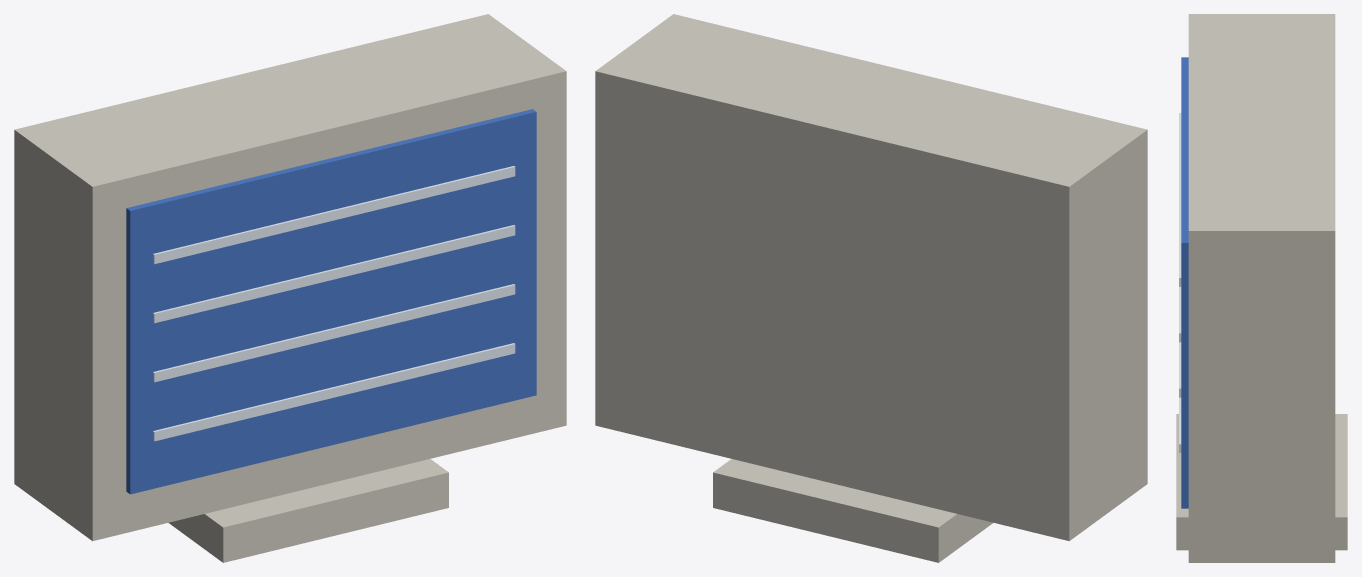
The model's file is office_monitor.glb.
3 views of the same model, side by side, from view 1: azimuth 30°, elevation 25°; view 2: azimuth 150°, elevation 25°; view 3: azimuth 270°, elevation 25° (orthographic). The views are drawn at different scales.
Parts seen in each view (by area): view 1: case_monitor_grey, screen_monitor_screen, cells_monitor_cells (×4), foot_monitor_grey; view 2: case_monitor_grey, foot_monitor_grey; view 3: case_monitor_grey, screen_monitor_screen, foot_monitor_grey, cells_monitor_cells.
Boxes of the visible parts, <box> form: case_monitor_grey: <box>14,14,566,541</box>; screen_monitor_screen: <box>126,109,536,494</box>; cells_monitor_cells (×4): <box>153,166,515,441</box>; foot_monitor_grey: <box>168,459,448,562</box>; case_monitor_grey: <box>595,14,1147,541</box>; foot_monitor_grey: <box>713,459,993,562</box>; case_monitor_grey: <box>1188,14,1335,562</box>; screen_monitor_screen: <box>1181,57,1188,508</box>; foot_monitor_grey: <box>1176,414,1347,550</box>; cells_monitor_cells: <box>1179,113,1181,286</box>.
Bounding box in the file's own units: 0.42 × 0.34 × 0.14.
